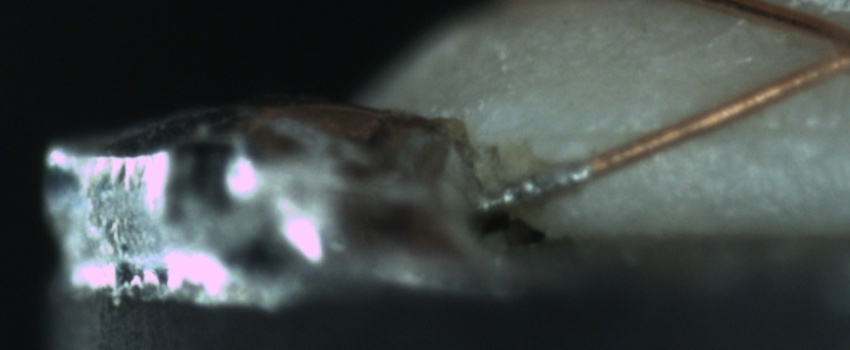DL: (562, 99, 848, 163)
TS: (470, 162, 589, 216)
